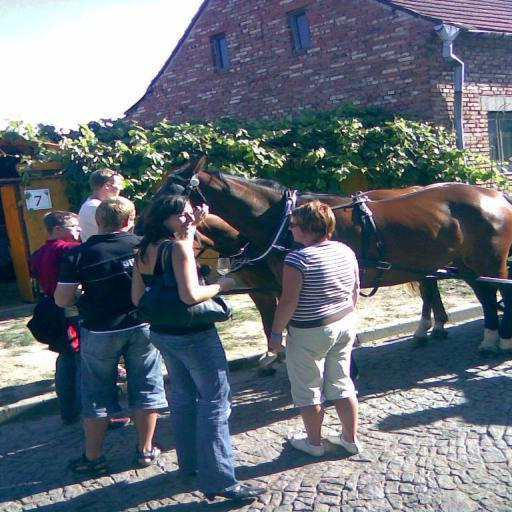horse: (132, 154, 512, 382), (194, 185, 450, 381)
